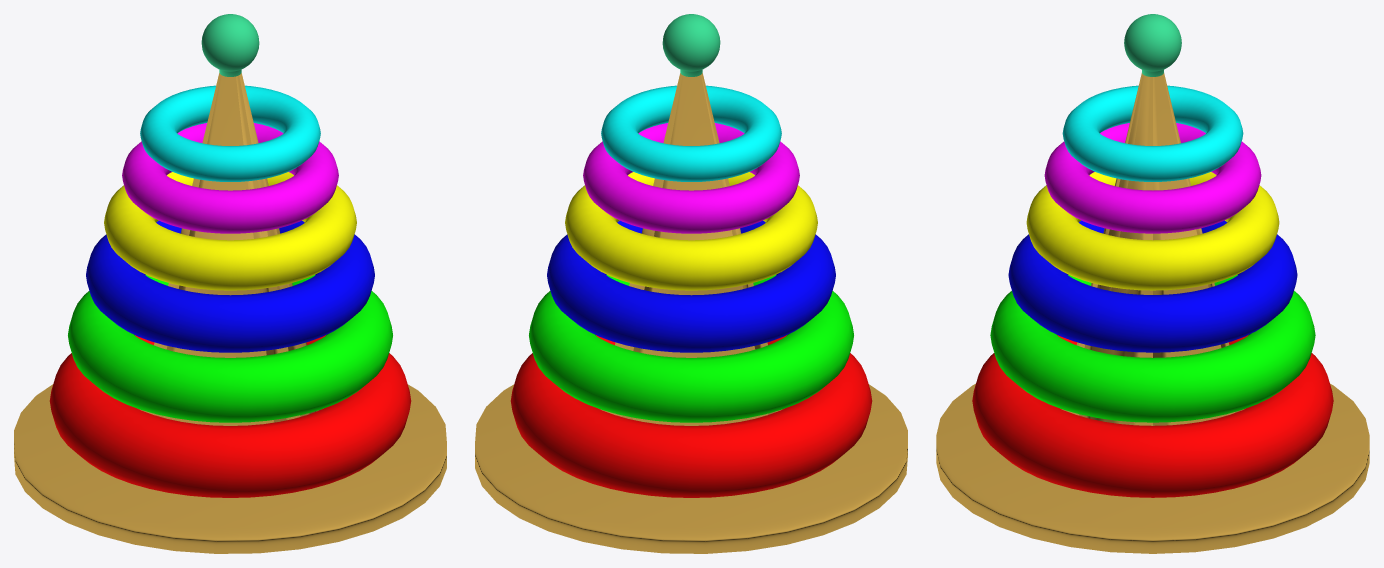
Rendered from Ringspiel.fbx.
3 renders of one model, left to right at view 1: azimuth 30°, elevation 25°; view 2: azimuth 150°, elevation 25°; view 3: azimuth 270°, elevation 25°, orthographic.
Visible parts, largest first — view 1: Cylinder, Torus.007, Torus.008, Torus.009, Torus.010, Torus.011, Torus.012; view 2: Cylinder, Torus.007, Torus.008, Torus.009, Torus.010, Torus.011, Torus.012; view 3: Cylinder, Torus.007, Torus.008, Torus.009, Torus.010, Torus.011, Torus.012.
Part boxes in pixels (bbox=[...]): Cylinder: bbox=[14, 14, 446, 553]; Torus.007: bbox=[49, 335, 411, 497]; Torus.008: bbox=[68, 275, 392, 422]; Torus.009: bbox=[86, 220, 374, 352]; Torus.010: bbox=[104, 172, 356, 290]; Torus.011: bbox=[122, 123, 338, 233]; Torus.012: bbox=[140, 85, 320, 181]; Cylinder: bbox=[475, 14, 907, 553]; Torus.007: bbox=[510, 335, 872, 497]; Torus.008: bbox=[529, 275, 853, 422]; Torus.009: bbox=[547, 220, 835, 352]; Torus.010: bbox=[565, 172, 817, 290]; Torus.011: bbox=[583, 123, 799, 233]; Torus.012: bbox=[601, 85, 781, 181]; Cylinder: bbox=[936, 14, 1369, 553]; Torus.007: bbox=[972, 335, 1333, 497]; Torus.008: bbox=[990, 274, 1315, 422]; Torus.009: bbox=[1008, 220, 1297, 352]; Torus.010: bbox=[1026, 172, 1279, 290]; Torus.011: bbox=[1044, 123, 1261, 233]; Torus.012: bbox=[1062, 85, 1243, 181].
Size of the model in its own units: 300 by 340 by 300.
